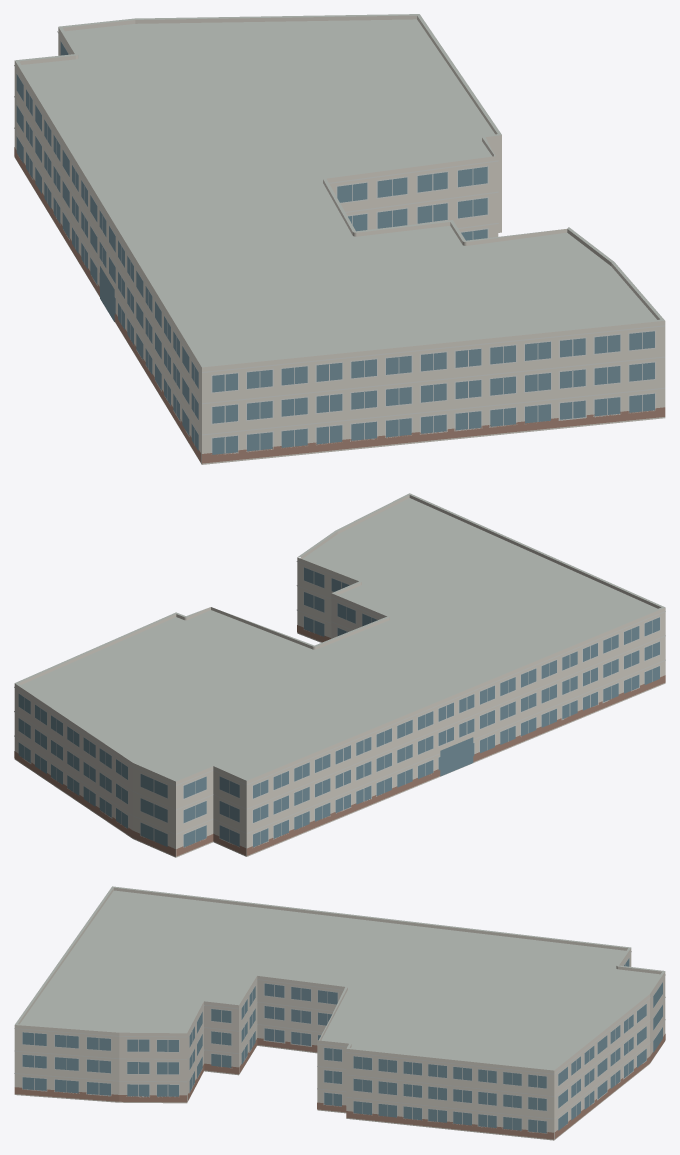
File: public-b79f9fda-70fc-4f7f-a870-f2b613edbdba.glb
The picture shows the model from 3 angles, top to bottom: view 1: azimuth 30°, elevation 25°; view 2: azimuth 150°, elevation 25°; view 3: azimuth 270°, elevation 25°; orthographic projection. The views are drawn at different scales.
Visible parts, largest first — view 1: public-b79f9fda-70fc-4f7f-a870-f2b613edbdba; view 2: public-b79f9fda-70fc-4f7f-a870-f2b613edbdba; view 3: public-b79f9fda-70fc-4f7f-a870-f2b613edbdba.
Boxes of the visible parts, x1,y1,x2,y2 form: public-b79f9fda-70fc-4f7f-a870-f2b613edbdba: (14,14,665,464); public-b79f9fda-70fc-4f7f-a870-f2b613edbdba: (14,493,665,857); public-b79f9fda-70fc-4f7f-a870-f2b613edbdba: (14,886,665,1140).
Bounding box in the file's own units: 51.73 × 9.15 × 77.18.
